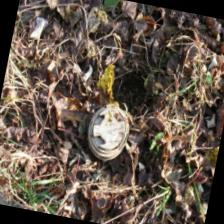M14: (83, 99, 133, 165)
